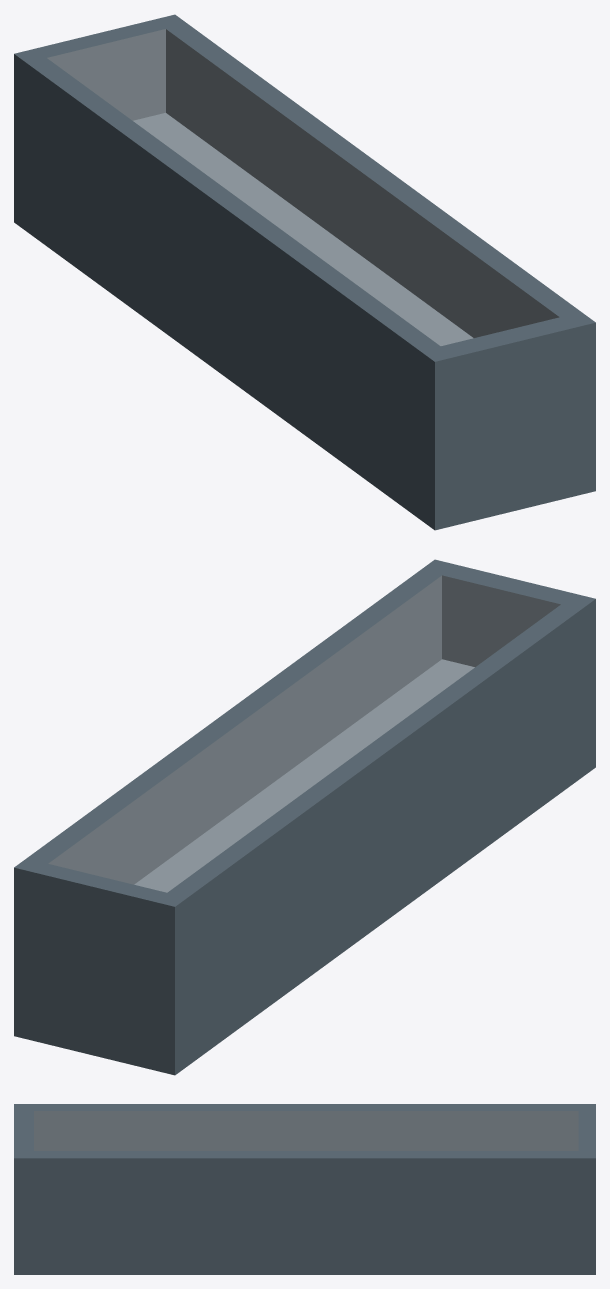
Rendered from Trough.fbx.
3 renders of one model, top to bottom at view 1: azimuth 30°, elevation 25°; view 2: azimuth 150°, elevation 25°; view 3: azimuth 270°, elevation 25°, orthographic. The views are drawn at different scales.
Parts seen in each view (by area): view 1: pCube8; view 2: pCube8; view 3: pCube8.
Boxes of the visible parts, left/top/right/bottom form: pCube8: left=14, top=14, right=595, bottom=530; pCube8: left=14, top=559, right=595, bottom=1075; pCube8: left=14, top=1104, right=595, bottom=1274.
Bounding box in the file's own units: 0.6451 × 0.6451 × 2.92.
